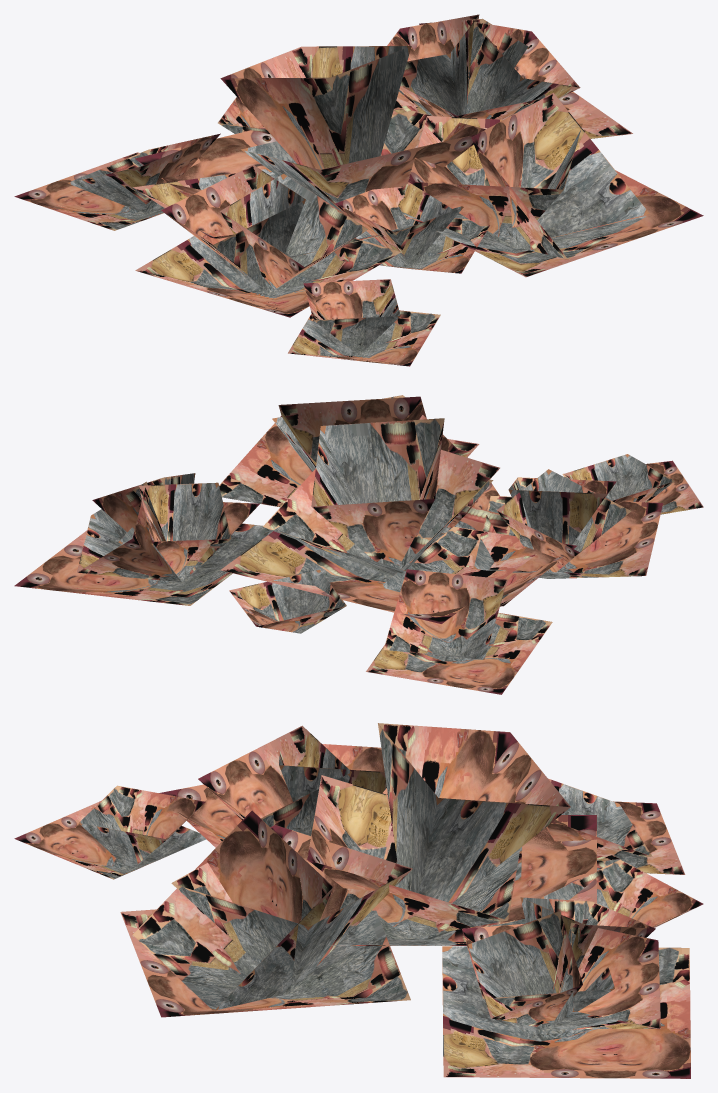
3 renders of one model, top to bottom at view 1: azimuth 30°, elevation 25°; view 2: azimuth 150°, elevation 25°; view 3: azimuth 270°, elevation 25°, orthographic. The views are drawn at different scales.
Visible parts, largest first — view 1: tiny_weeds_03_02; view 2: tiny_weeds_03_02; view 3: tiny_weeds_03_02.
Boxes of the visible parts, box(x1,y1,x2,y2) form: tiny_weeds_03_02: box(14, 14, 703, 366); tiny_weeds_03_02: box(14, 395, 703, 694); tiny_weeds_03_02: box(14, 723, 703, 1078).
Bounding box in the file's own units: 1.42 × 0.4396 × 1.43.
